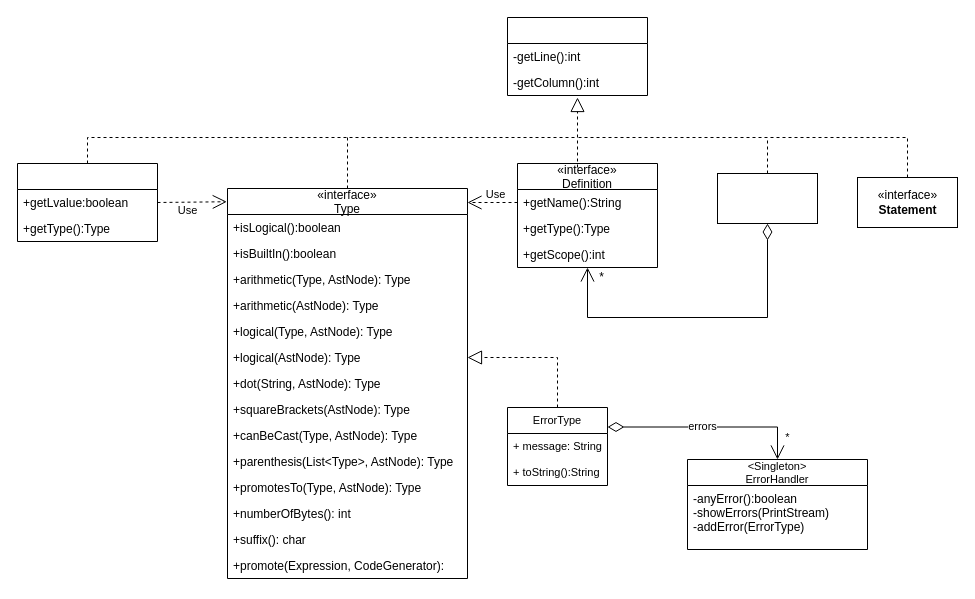
The diagram is 975 pixels wide and 599 high, and some of its shapes have lost their labels. The box of each missing label's shape, as (x1, y1, x2, y2) in pixels:
Program: (716, 172, 818, 224)
«interface» ASTNode: (506, 16, 648, 96)
«interface» Expression: (16, 162, 158, 242)
